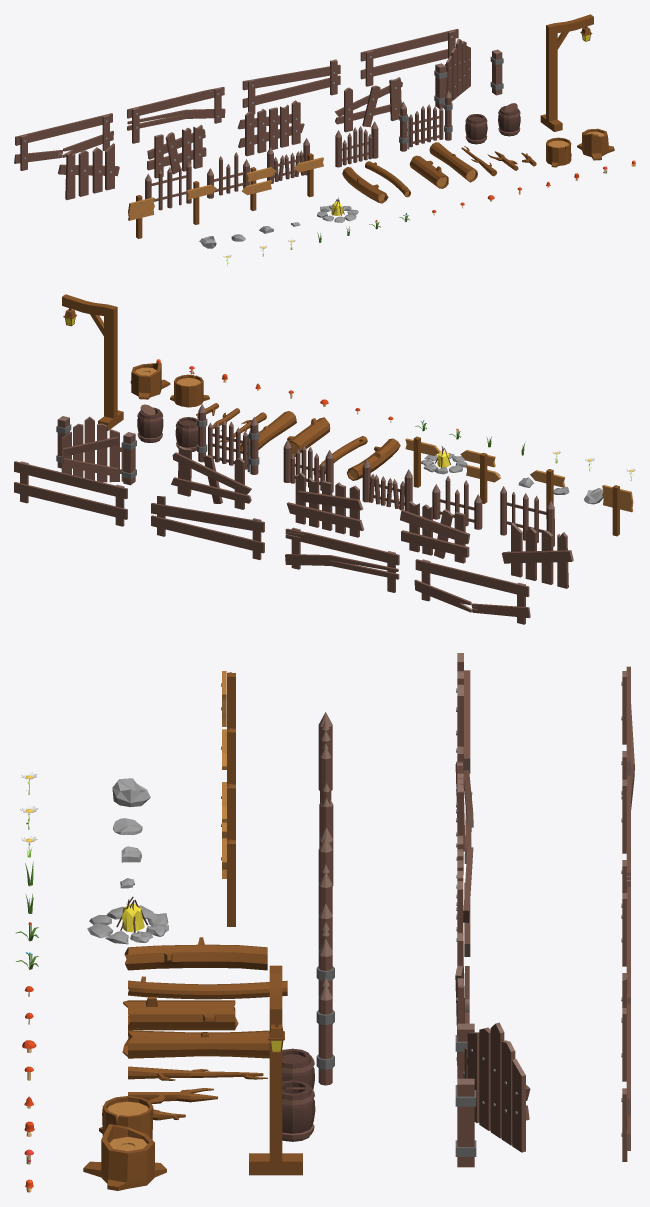
File: wooden_fence_and_flowers.fbx
3 renders of one model, top to bottom at view 1: azimuth 30°, elevation 25°; view 2: azimuth 150°, elevation 25°; view 3: azimuth 270°, elevation 25°, orthographic. The views are drawn at different scales.
Parts seen in each view (by area): view 1: Wooden_Fence6, Wooden_Fence1, Wooden_Fence2, Wooden_Fence8, Wooden_Fence, Wooden_Fence3, Wooden_Fence4, nıgh_nıgh, Wooden_Fence5, Wooden_Fence7, Wooden_Fence13, Wooden_Fence12 (+16 smaller); view 2: Wooden_Fence8, Wooden_Fence6, Wooden_Fence3, Wooden_Fence1, Wooden_Fence2, Wooden_Fence, Wooden_Fence4, Wooden_Fence5, nıgh_nıgh, Wooden_Fence7, Wooden_Fence13, Wooden_Fence11 (+15 smaller); view 3: Wooden_Fence8, nıgh_nıgh, Cut_Wood5, Cut_Wood3, Cut_Wood, Cut_Wood2, Cut_Wood1, free, Wooden_Fence13, Barrel_Wooden1, Cut_Wood4, Wooden_Fence6 (+17 smaller).
Boxes of the visible parts, x1,y1,x2,y2 form: Wooden_Fence6: [237, 100, 304, 156]; Wooden_Fence1: [127, 87, 225, 143]; Wooden_Fence2: [242, 59, 340, 114]; Wooden_Fence8: [434, 38, 503, 108]; Wooden_Fence: [14, 113, 113, 170]; Wooden_Fence3: [360, 29, 458, 86]; Wooden_Fence4: [58, 143, 119, 199]; nıgh_nıgh: [540, 14, 593, 131]; Wooden_Fence5: [147, 125, 206, 178]; Wooden_Fence7: [334, 77, 402, 132]; Wooden_Fence13: [399, 90, 452, 151]; Wooden_Fence12: [335, 121, 378, 167]; Wooden_Fence8: [56, 416, 136, 485]; Wooden_Fence6: [286, 472, 364, 537]; Wooden_Fence3: [14, 461, 127, 526]; Wooden_Fence1: [285, 527, 399, 592]; Wooden_Fence2: [151, 496, 264, 559]; Wooden_Fence: [414, 559, 530, 624]; Wooden_Fence4: [502, 522, 573, 588]; Wooden_Fence5: [400, 501, 470, 563]; nıgh_nıgh: [62, 294, 123, 430]; Wooden_Fence7: [171, 446, 251, 509]; Wooden_Fence13: [197, 404, 259, 474]; Wooden_Fence11: [362, 459, 412, 511]; Wooden_Fence8: [455, 1022, 530, 1167]; nıgh_nıgh: [249, 965, 302, 1175]; Cut_Wood5: [122, 1030, 269, 1058]; Cut_Wood3: [83, 1124, 166, 1190]; Cut_Wood: [124, 937, 267, 970]; Cut_Wood2: [123, 997, 238, 1030]; Cut_Wood1: [128, 976, 287, 999]; free: [87, 896, 168, 944]; Wooden_Fence13: [316, 941, 334, 1085]; Barrel_Wooden1: [282, 1080, 315, 1141]; Cut_Wood4: [99, 1096, 153, 1139]; Wooden_Fence6: [456, 835, 473, 966].
Bounding box in the file's own units: 34.32 × 6.83 × 18.81.
